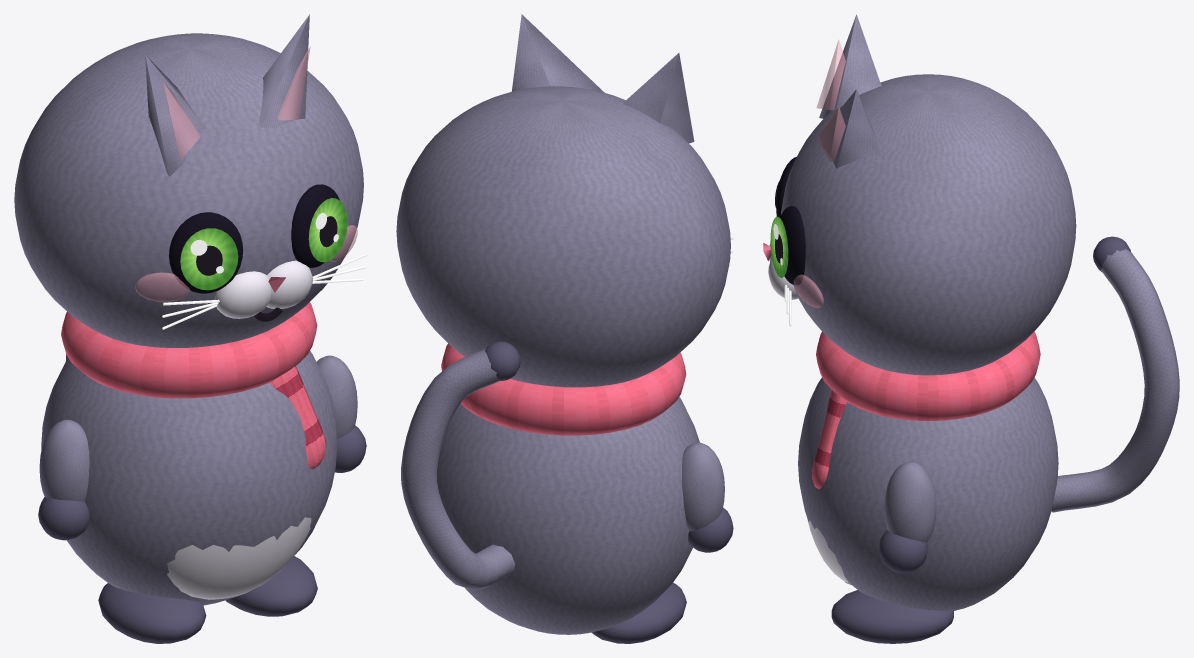
The model's file is cat.glb.
3 views of the same model, side by side, from view 1: azimuth 30°, elevation 25°; view 2: azimuth 150°, elevation 25°; view 3: azimuth 270°, elevation 25° (orthographic). The views are drawn at different scales.
Parts seen in each view (by area): view 1: head, body, armL, ear0, ear1, armR, look0, blink0, look1, blink1; view 2: head, body, tail, armL, ear1, ear0; view 3: head, body, tail, armR, ear0, ear1, blink1, look1.
Boxes of the visible parts, left/top/right/bottom form: head: left=14, top=33, right=367, bottom=347; body: left=41, top=302, right=336, bottom=643; armL: left=38, top=419, right=89, bottom=540; ear0: left=145, top=55, right=205, bottom=176; ear1: left=258, top=14, right=310, bottom=128; armR: left=316, top=355, right=366, bottom=472; look0: left=180, top=228, right=238, bottom=290; blink0: left=169, top=212, right=243, bottom=293; look1: left=308, top=198, right=347, bottom=262; blink1: left=291, top=184, right=339, bottom=267; head: left=396, top=86, right=734, bottom=387; body: left=437, top=343, right=699, bottom=643; tail: left=401, top=341, right=520, bottom=590; armL: left=682, top=442, right=733, bottom=552; ear1: left=512, top=14, right=604, bottom=92; ear0: left=623, top=53, right=694, bottom=143; head: left=763, top=74, right=1076, bottom=375; body: left=798, top=331, right=1058, bottom=643; tail: left=1051, top=236, right=1179, bottom=512; armR: left=879, top=461, right=936, bottom=573; ear0: left=816, top=14, right=881, bottom=118; ear1: left=816, top=89, right=880, bottom=168; blink1: left=780, top=206, right=805, bottom=285; look1: left=770, top=216, right=788, bottom=277.
Size of the model in its own units: 0.98 by 1.75 by 1.18.
10 materials, 3 textured.
